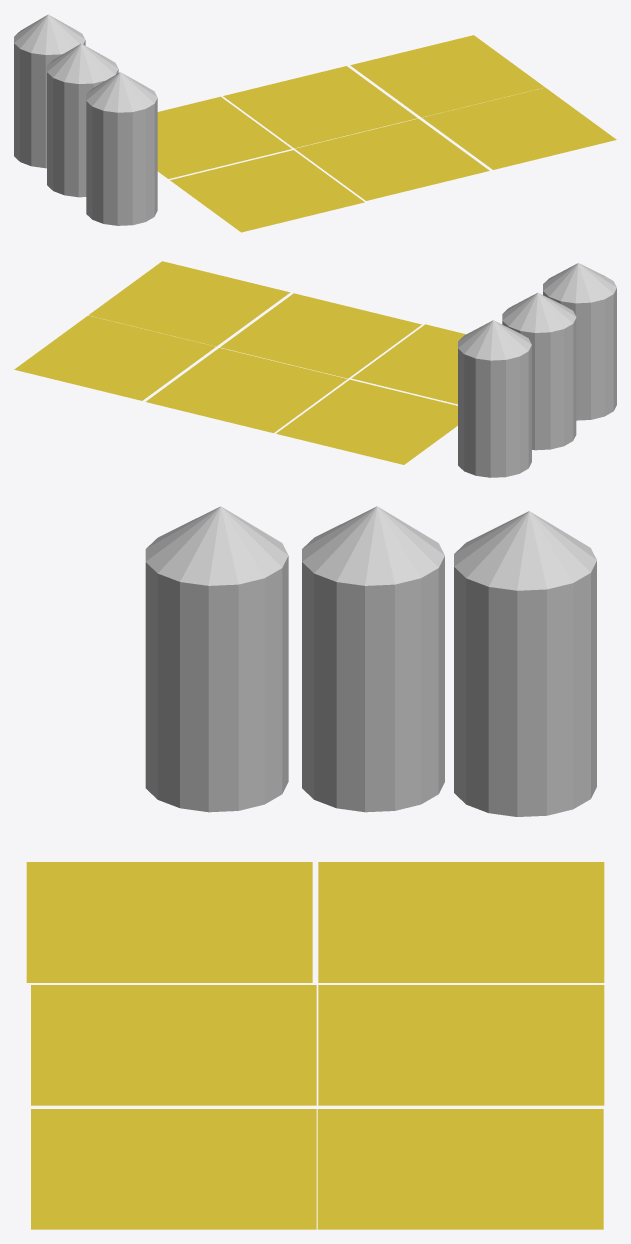
The model's file is CollectiveFarm.fbx.
3 renders of one model, top to bottom at view 1: azimuth 30°, elevation 25°; view 2: azimuth 150°, elevation 25°; view 3: azimuth 270°, elevation 25°, orthographic. The views are drawn at different scales.
Visible parts, largest first — view 1: Plane.001, Cylinder; view 2: Plane.001, Cylinder; view 3: Plane.001, Cylinder.
Part boxes in pixels (box(x1,y1,x2,y2)): Plane.001: box(157, 35, 616, 232); Cylinder: box(14, 14, 157, 225); Plane.001: box(14, 261, 465, 464); Cylinder: box(458, 263, 616, 477); Plane.001: box(26, 862, 604, 1229); Cylinder: box(145, 506, 596, 816).
Bounding box in the file's own units: 3879 × 1101 × 2020.
